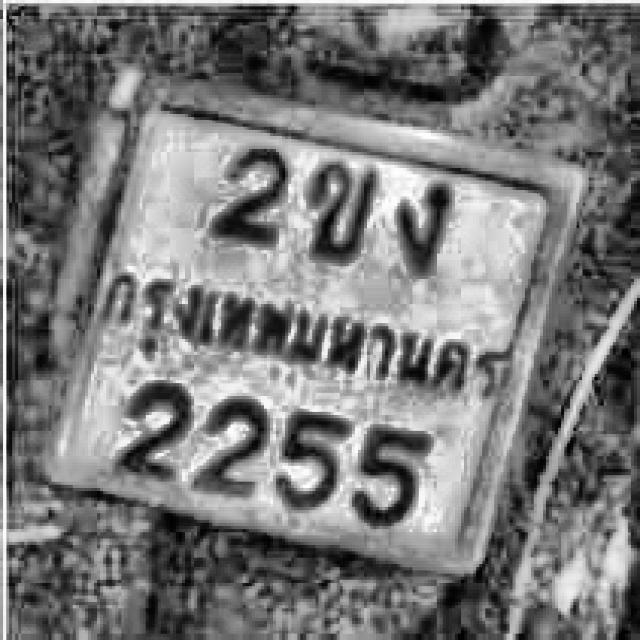license-plate: (39, 56, 590, 595)
